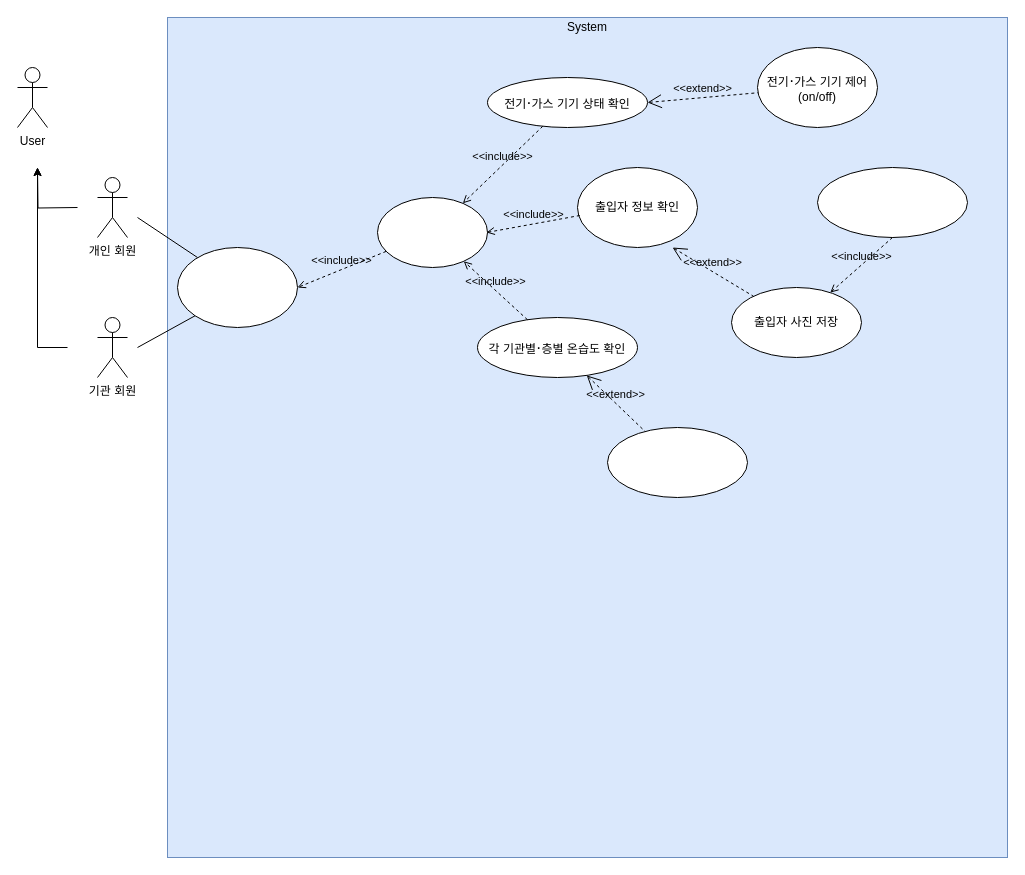
This 1025x875 diagram has some shape labels left out. Here are the shapes that lost their labels. From the top down, the centre of each, then its label:
At point 892,202: "위험 인물 신고".
At point 432,232: "로그인".
At point 237,287: "회원가입".
At point 677,462: "냉 · 난방기 제어(on/off)".
